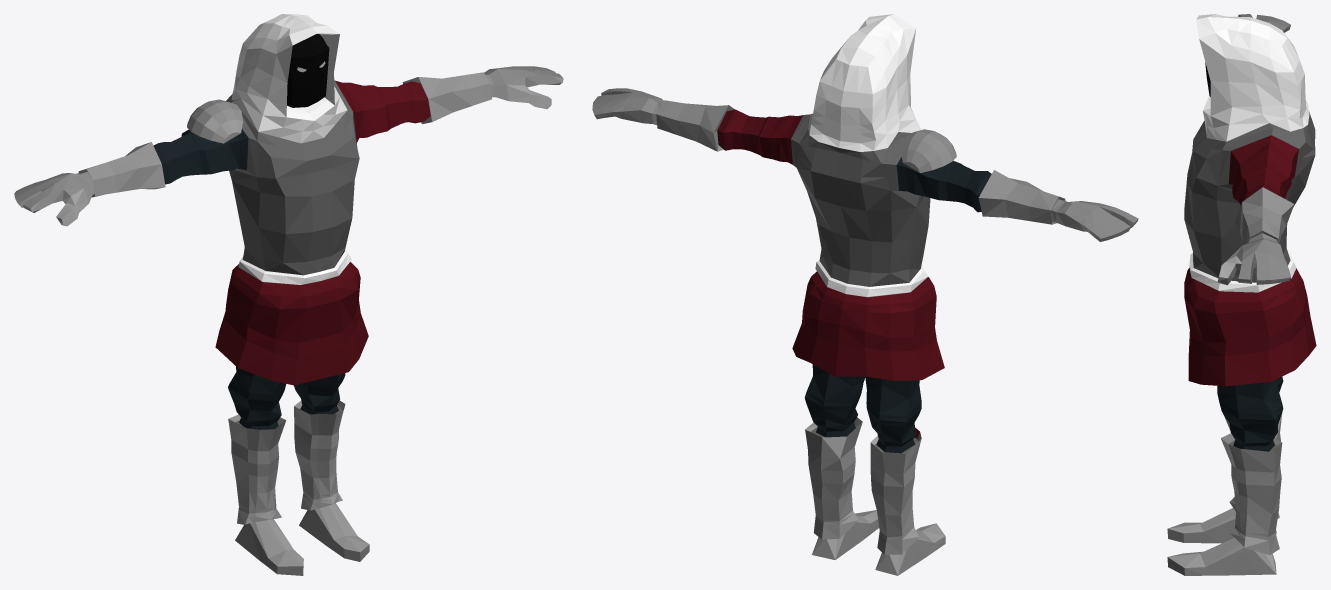
File: SK_Paladin.fbx
3 views of the same model, side by side, from view 1: azimuth 30°, elevation 25°; view 2: azimuth 150°, elevation 25°; view 3: azimuth 270°, elevation 25° (orthographic). The views are drawn at different scales.
Visible parts, largest first — view 1: Final; view 2: Final; view 3: Final.
Boxes of the visible parts, box(x1,y1,x2,y2) form: Final: box(14, 14, 563, 575); Final: box(592, 14, 1138, 575); Final: box(1167, 14, 1316, 575).
Bounding box in the file's own units: 200 × 188 × 47.48.
1 material, 1 textured.
